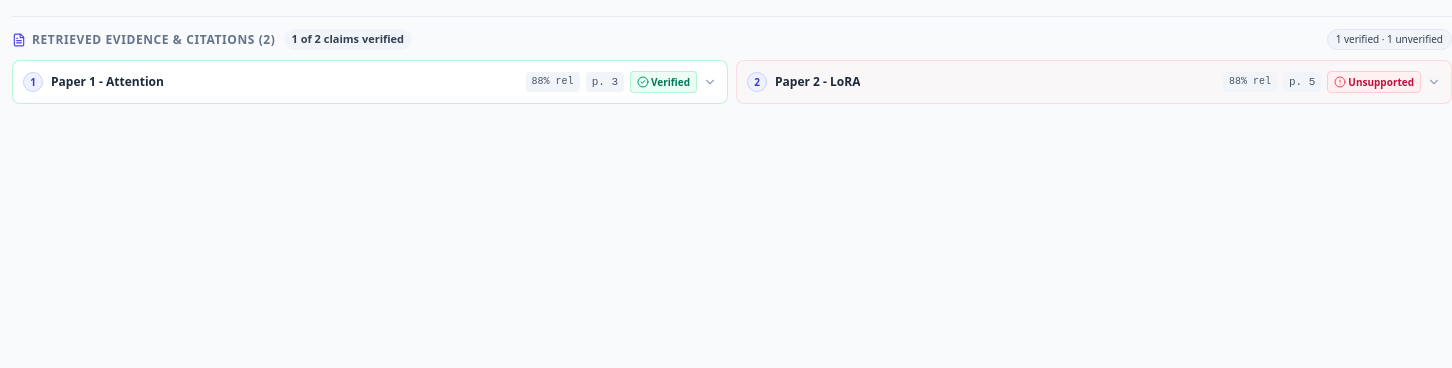
Scenario: Frontend Component Tests: SourceCitation › expands citation excerpt and shows Open in PDF Viewer button upon click
Click first citation card to expand
Click the text "Paper 1 - Attention" at (107, 82), box [51, 74, 164, 90]
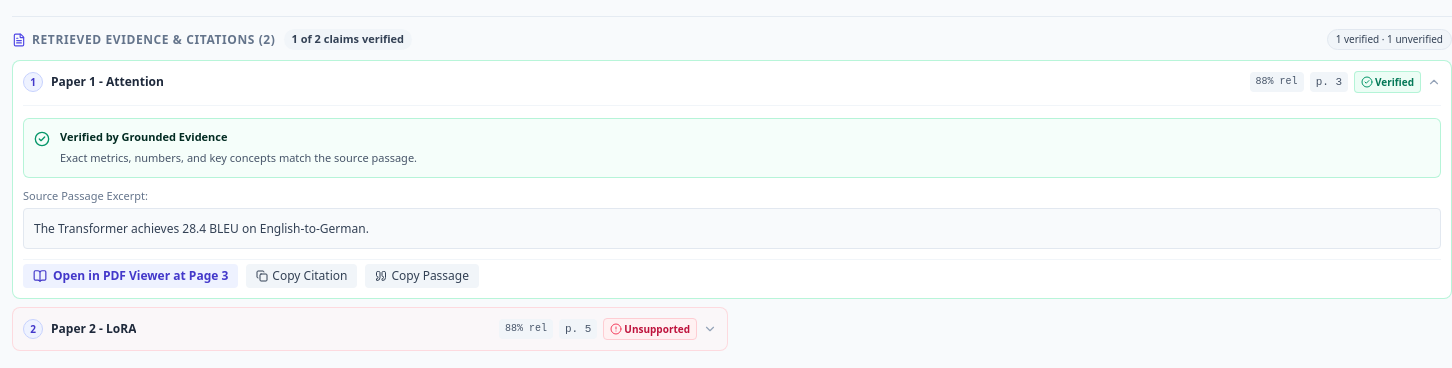
Now the text "Open in PDF Viewer at Page 3" is shown, box [53, 268, 228, 284]
Now the text "Copy Citation" is shown, box [272, 268, 347, 284]
Now the text "Copy Passage" is shown, box [391, 268, 469, 284]
